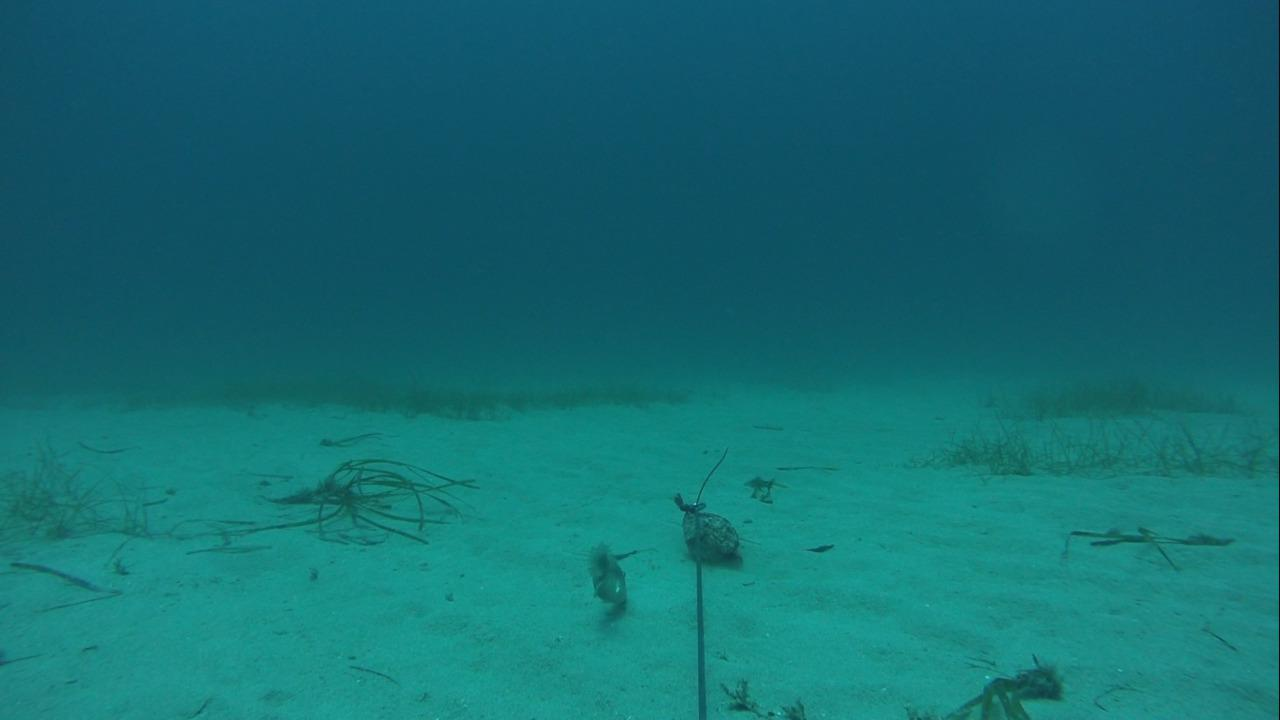raor: (575, 537, 634, 612)
